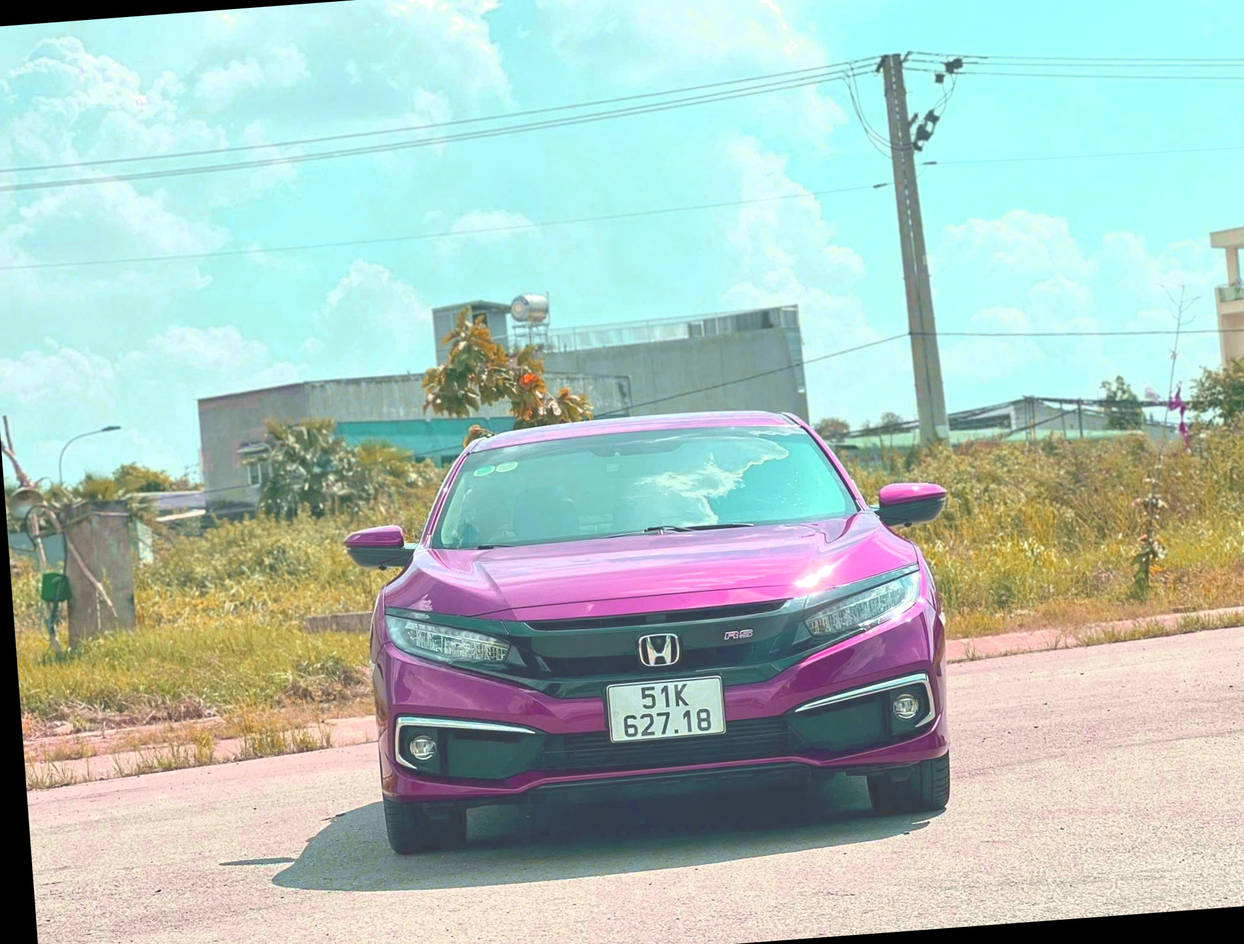Bien-so: (539, 689, 663, 759)
